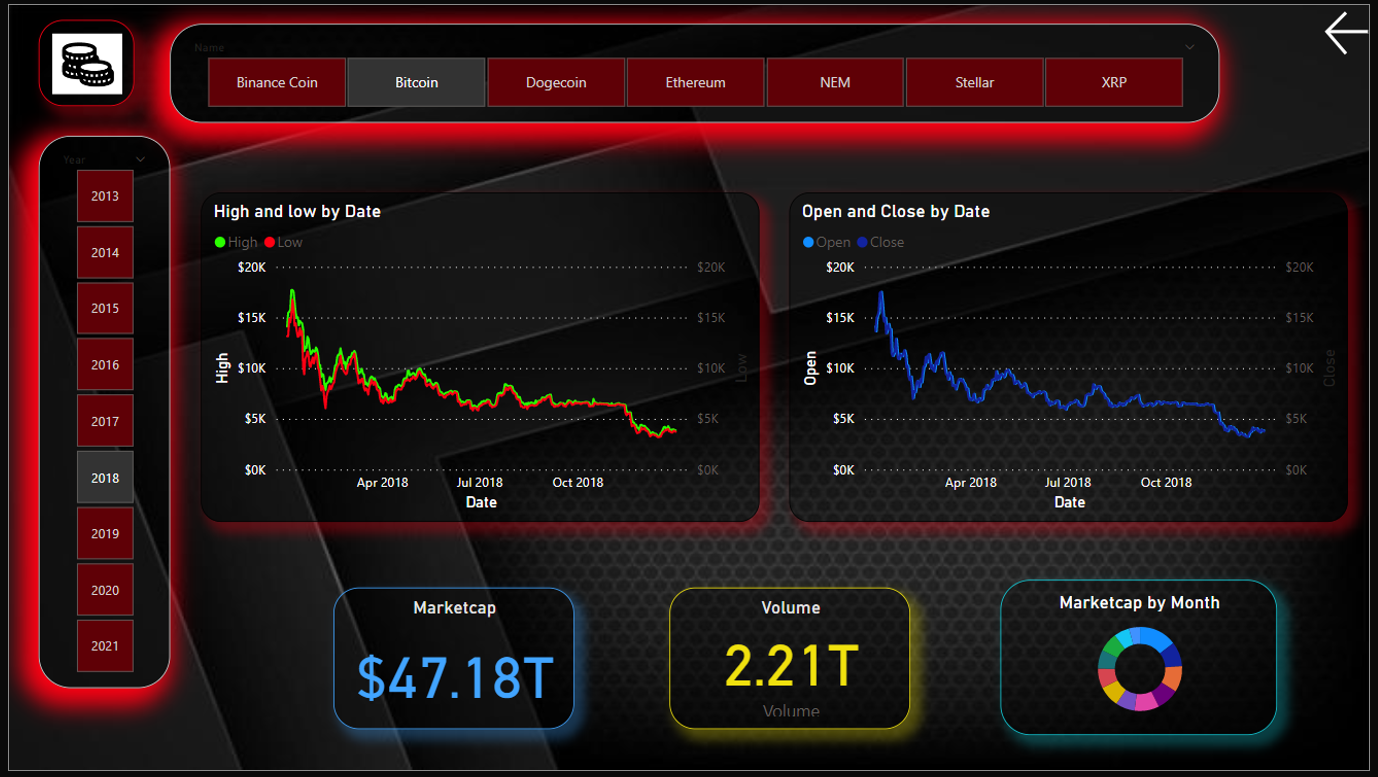

The page's visual inventory and layout, read from the dashboard file:
{"tool":"powerbi","page":{"name":"Page 2","canvas":[1280,720],"ordinal":1},"visuals":[{"type":"lineChart","title":"High and low by Date","fields":{"Category":["CryptoData.Date"],"Y":["Sum(CryptoData.High)"],"Y2":["Sum(CryptoData.Low)"]},"box":[179.7,178.5,523.4,308.7],"z":0},{"type":"card","title":"Marketcap","fields":{"Values":["Sum(CryptoData.Marketcap)"]},"box":[303.9,548.7,225.5,132.7],"z":1000},{"type":"card","title":"Volume","fields":{"Values":["Sum(CryptoData.Volume)"]},"box":[618.7,548.7,225.5,132.7],"z":2000},{"type":"slicer","title":"Coin","fields":{"Values":["CryptoData.Name"]},"box":[150.8,20.5,982.9,92.9],"z":3000},{"type":"slicer","title":"Year","fields":{"Values":["CryptoData.Year"]},"box":[27.7,125.4,123,517.4],"z":4000},{"type":"lineChart","title":"Open and Close by Date","fields":{"Category":["CryptoData.Date"],"Y":["Sum(CryptoData.Open)"],"Y2":["Sum(CryptoData.Close)"]},"box":[730.9,178.5,523.4,308.7],"z":5000},{"type":"actionButton","box":[1227.7,0,51.9,57.9],"z":6000},{"type":"image","box":[27.7,16.9,89.2,80.8],"z":7000},{"type":"donutChart","fields":{"Category":["CryptoData.Date.Variation.Date Hierarchy.Month"],"Y":["Sum(CryptoData.Marketcap)"]},"box":[928.6,541.5,259.3,145.9],"z":8000}]}

Visuals, with their boxes in screenshot pixels (x1, y1, x2, y2), scaled from the page's 1280x720 canvas onto the 1378x777 screenshot:
"High and low by Date" lineChart: locate(193, 193, 757, 526)
"Marketcap" card: locate(327, 592, 570, 735)
"Volume" card: locate(666, 592, 909, 735)
"Coin" slicer: locate(162, 22, 1220, 122)
"Year" slicer: locate(30, 135, 162, 694)
"Open and Close by Date" lineChart: locate(787, 193, 1350, 526)
actionButton: locate(1322, 0, 1377, 62)
image: locate(30, 18, 126, 105)
donutChart - CryptoData.Date.Variation.Date Hierarchy.Month x Sum(CryptoData.Marketcap): locate(1000, 584, 1279, 742)
